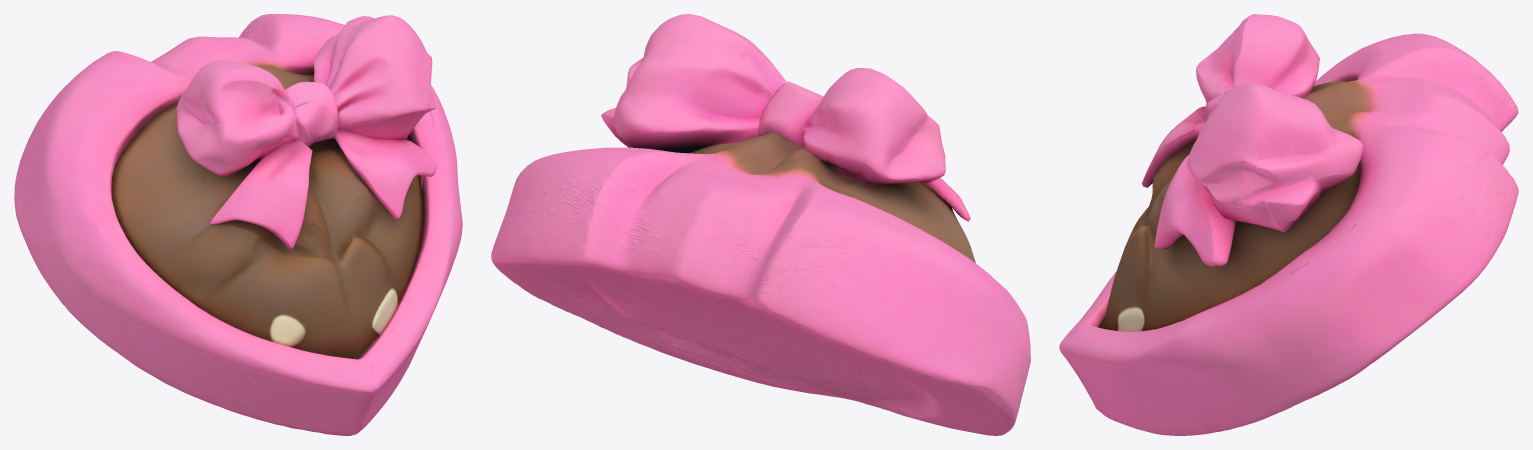
The model's file is heart_chocolates.glb.
3 renders of one model, left to right at view 1: azimuth 30°, elevation 25°; view 2: azimuth 150°, elevation 25°; view 3: azimuth 270°, elevation 25°, orthographic. The views are drawn at different scales.
Visible parts, largest first — view 1: model; view 2: model; view 3: model.
Part boxes in pixels (box(x1,y1,x2,y2)): model: box(14, 14, 462, 435); model: box(491, 14, 1030, 435); model: box(1059, 14, 1518, 435).
Bounding box in the file's own units: 1.9 × 1.55 × 1.69.
Materials: 1 (1 with a texture image).
